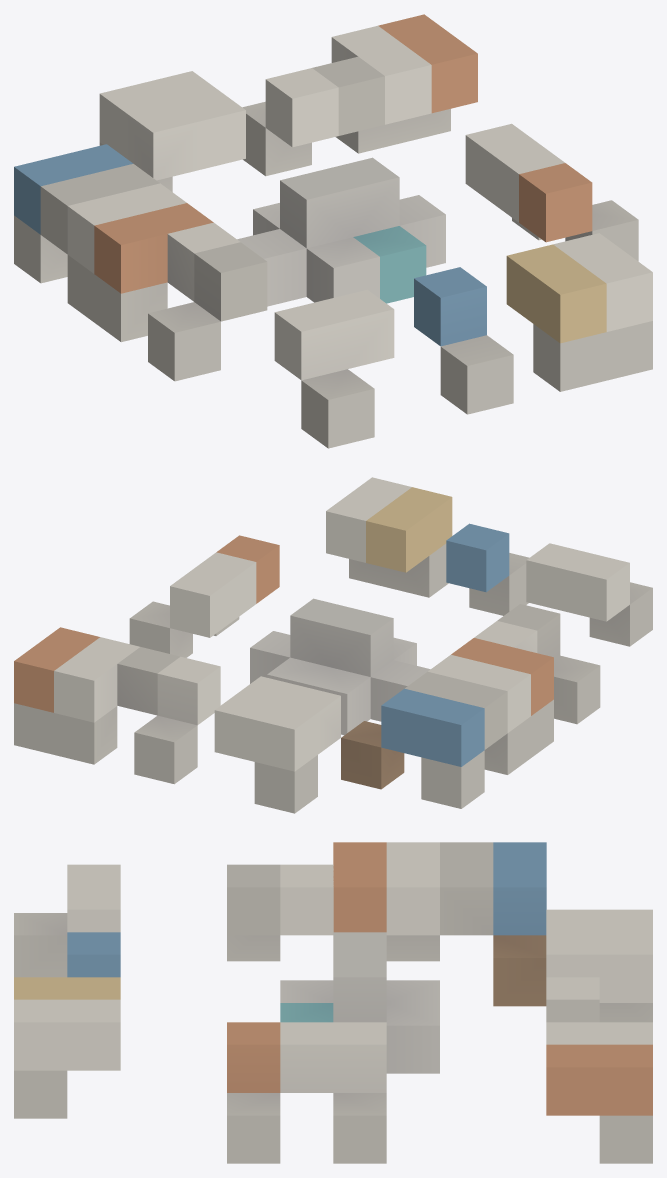
File: market.l4.lite.glb
The picture shows the model from 3 angles, top to bottom: view 1: azimuth 30°, elevation 25°; view 2: azimuth 150°, elevation 25°; view 3: azimuth 270°, elevation 25°; orthographic projection. The views are drawn at different scales.
Visible parts, largest first — view 1: market; view 2: market; view 3: market.
Boxes of the visible parts, x1,y1,x2,y2 form: market: [14, 14, 652, 448]; market: [14, 477, 652, 813]; market: [14, 842, 652, 1163].
Bounding box in the file's own units: 5 × 1 × 6.
